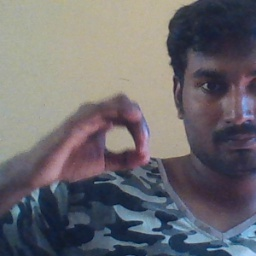O: (37, 89, 153, 184)
